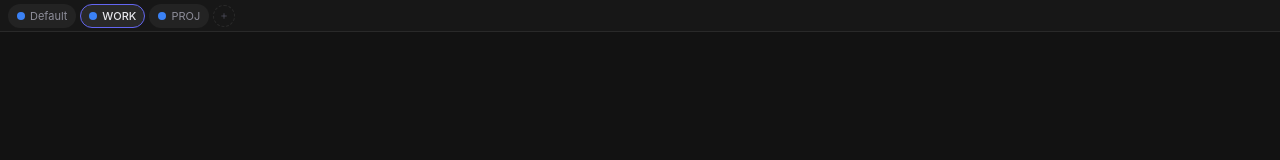
Test: WorkspaceSwitcher › the context menu › opens on right-click
Step 1. Right-click the button "PROJ" → [179, 16], box [149,4,209,28]
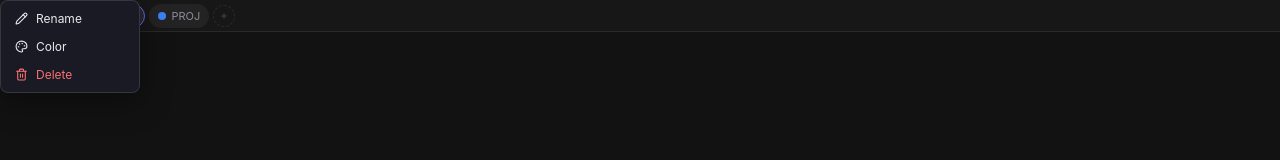
Expected: the menu is shown, [0,0,140,93]
